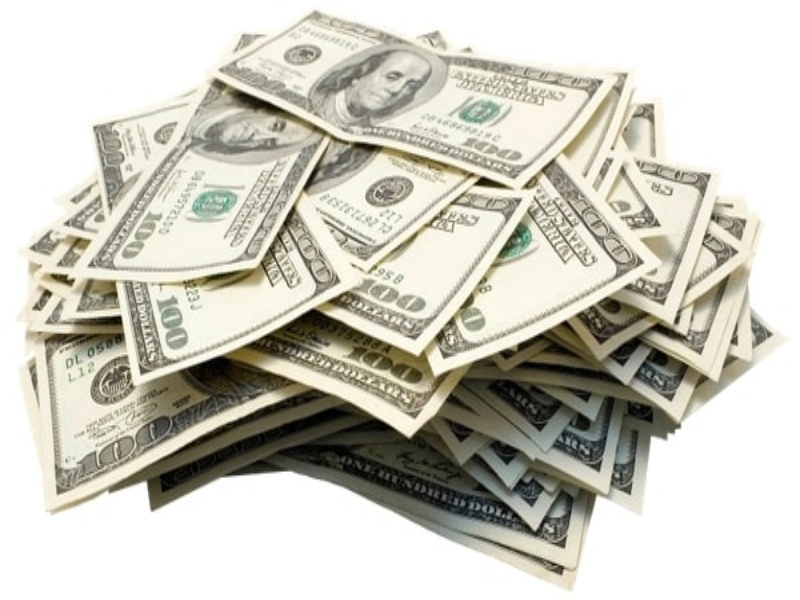cash: (16, 11, 794, 589)
